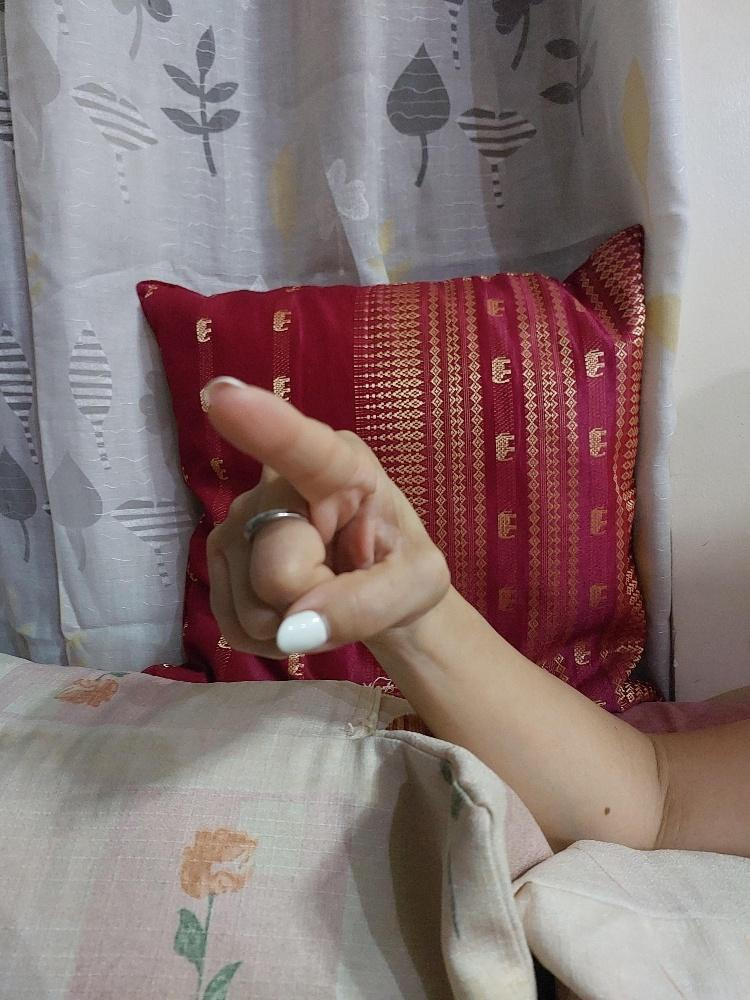z: (195, 374, 453, 663)
